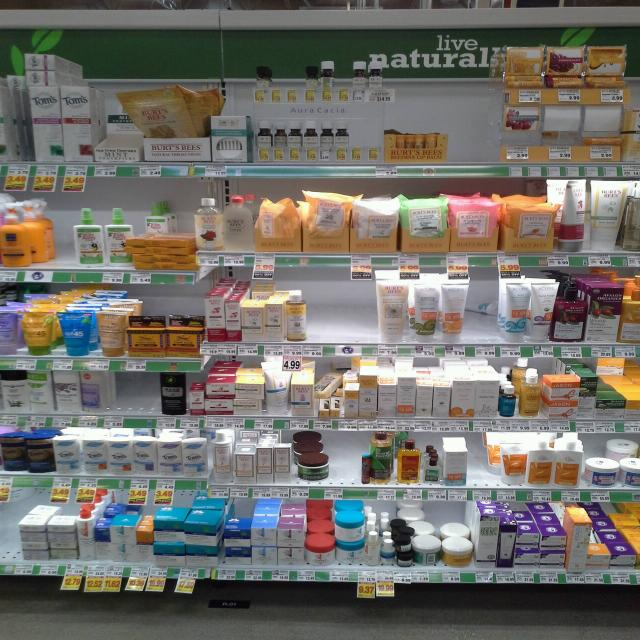void: (308, 268, 341, 354), (340, 270, 373, 355), (442, 102, 473, 178), (356, 114, 391, 177), (114, 374, 154, 428), (474, 109, 504, 178)
